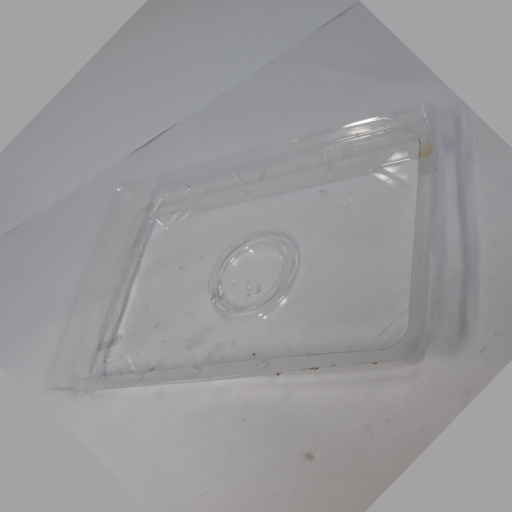Plastic_4: (43, 106, 438, 392)
